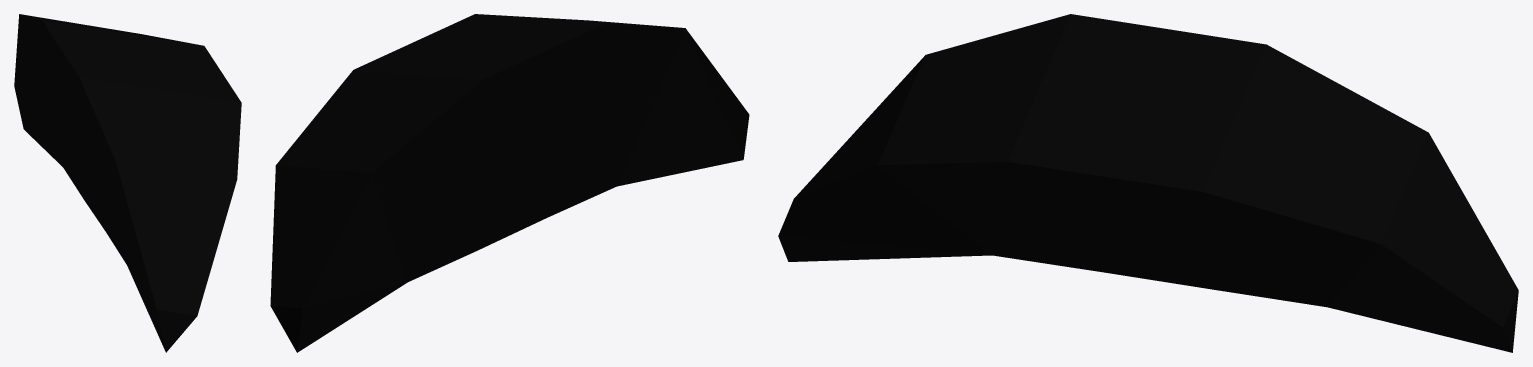
File: slice.glb
The picture shows the model from 3 angles, left to right: view 1: azimuth 30°, elevation 25°; view 2: azimuth 150°, elevation 25°; view 3: azimuth 270°, elevation 25°; orthographic projection. The views are drawn at different scales.
Bounding box in the file's own units: 0.6797 × 0.6376 × 1.6.
Materials: 1 (1 with a texture image).
